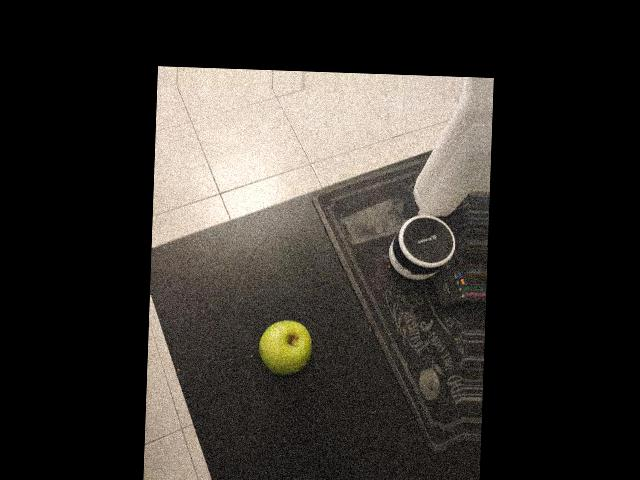apple: (260, 314, 330, 401)
